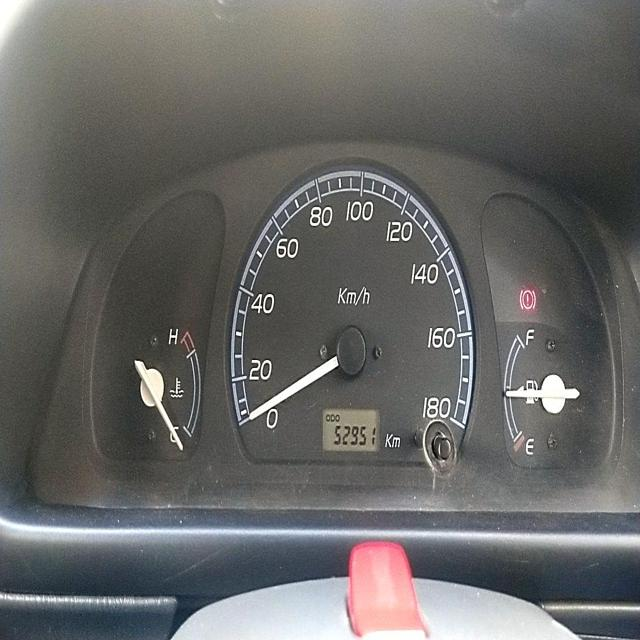odometer: (329, 423, 377, 450)
